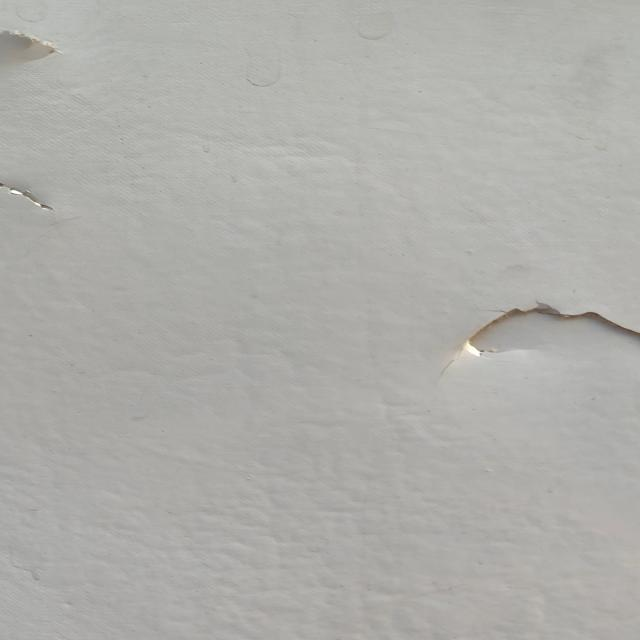Scratches: (447, 287, 640, 365), (1, 23, 86, 80), (1, 170, 70, 230)
